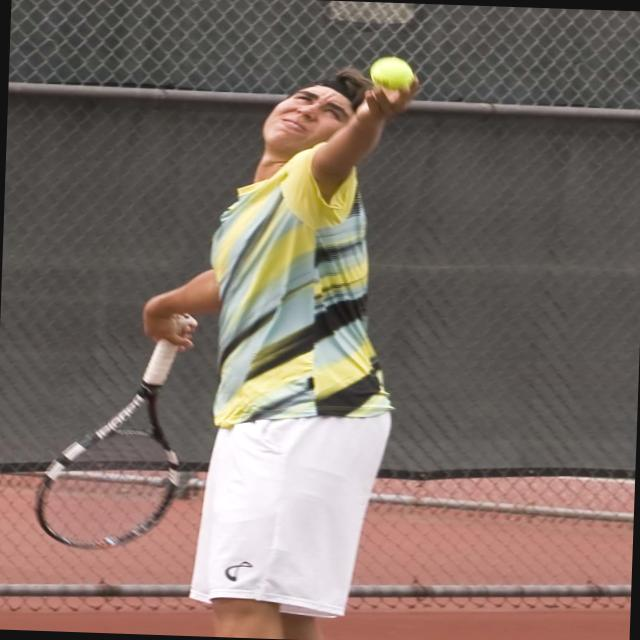Tennis Ball: (368, 56, 414, 90)
